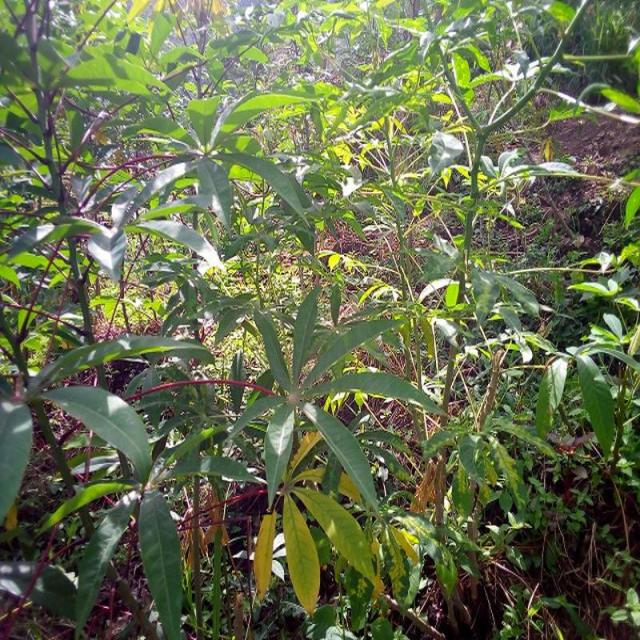cassava leaf: (40, 383, 154, 484), (138, 489, 185, 638)
